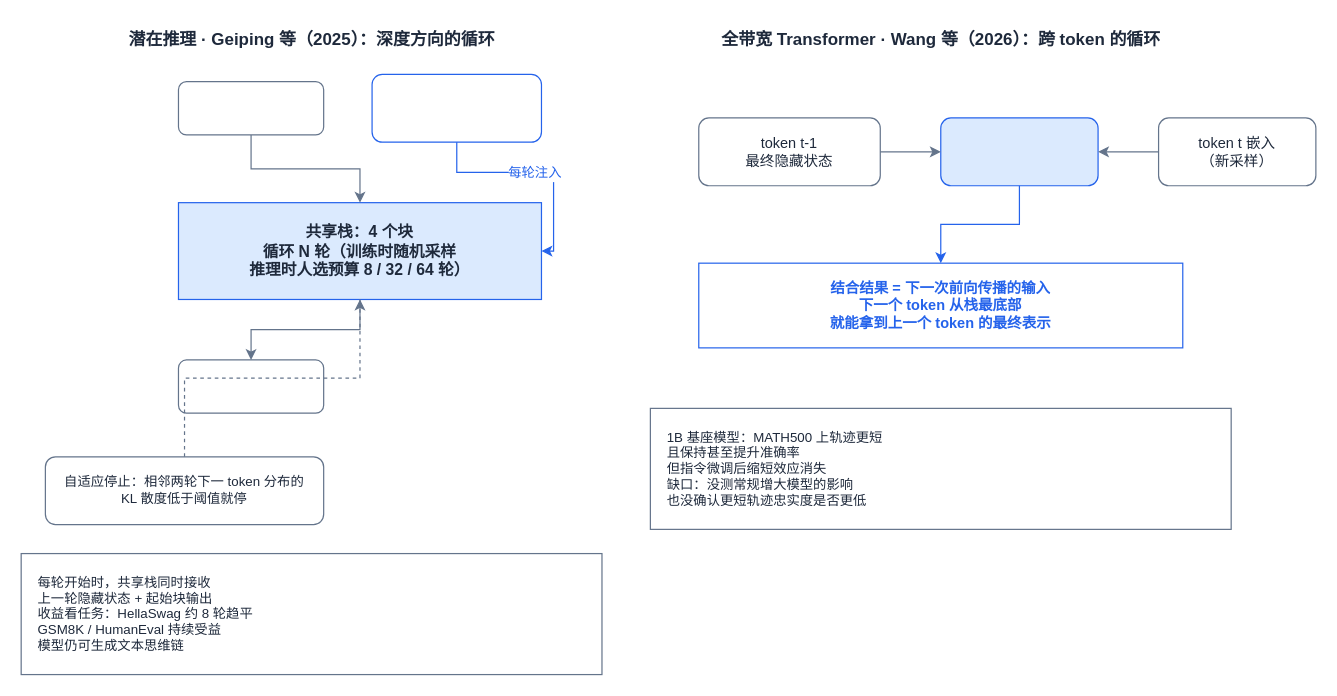
Some shapes in this 1337 by 696 pixel diagram are drawn without their labels. Each missing label, with the centre of its shape:
"2 个末尾块" goes at (x=250, y=386).
"2 个起始块" goes at (x=250, y=107).
"可学习线性投影 拼接后进共享栈" goes at (x=456, y=107).
"可学习门控 两者结合" goes at (x=1019, y=151).
